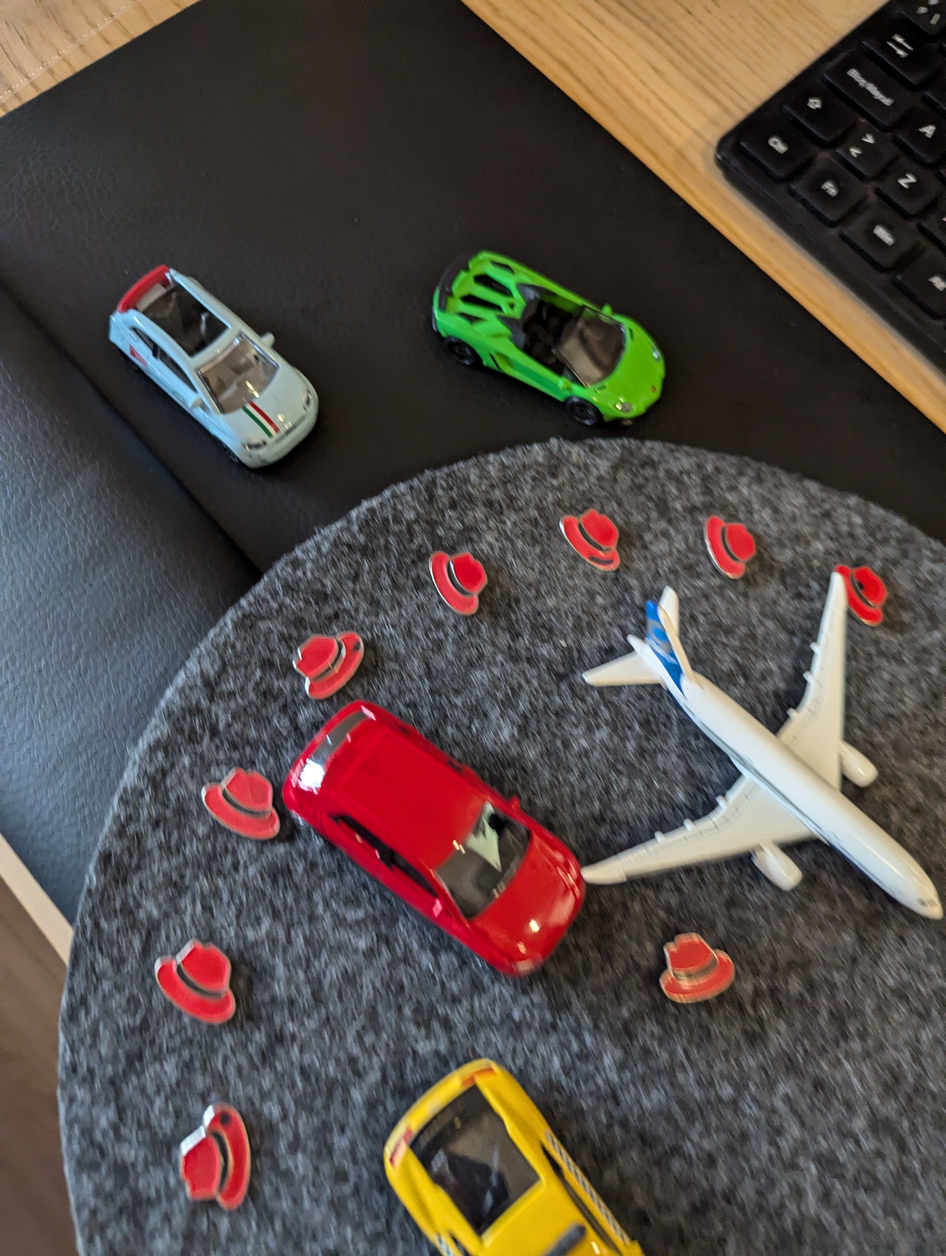Airplane: (533, 558, 946, 930)
Car: (256, 688, 587, 984), (331, 1030, 665, 1256), (74, 238, 368, 478), (399, 220, 686, 432)
Red-Hat: (150, 1075, 294, 1224), (129, 923, 258, 1045), (413, 514, 520, 630), (276, 615, 405, 700), (644, 918, 750, 1017), (543, 489, 648, 583), (821, 542, 910, 646), (188, 755, 284, 851), (684, 491, 774, 587)
Scratch: (570, 535, 631, 576), (335, 629, 386, 662), (202, 1098, 248, 1131), (850, 566, 874, 604)
